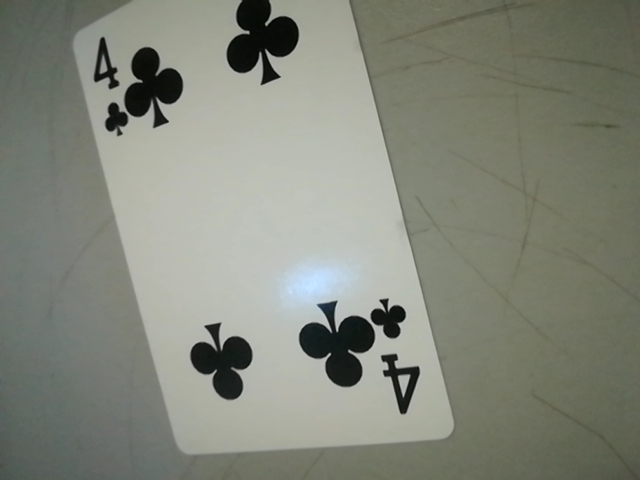mh 4: (367, 287, 436, 426)
